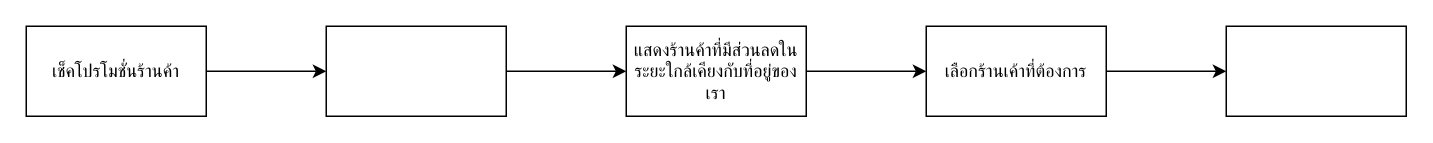
Image size: 1433x143. Some labels were removed from this diagram. Each missing label, with the centre of its shape:
"กดเข้าหน้าส่วนลดร้านค้า" belongs at point (415, 70).
"เลือกเมนูอาหารที่ต้องการ" belongs at point (1315, 70).
